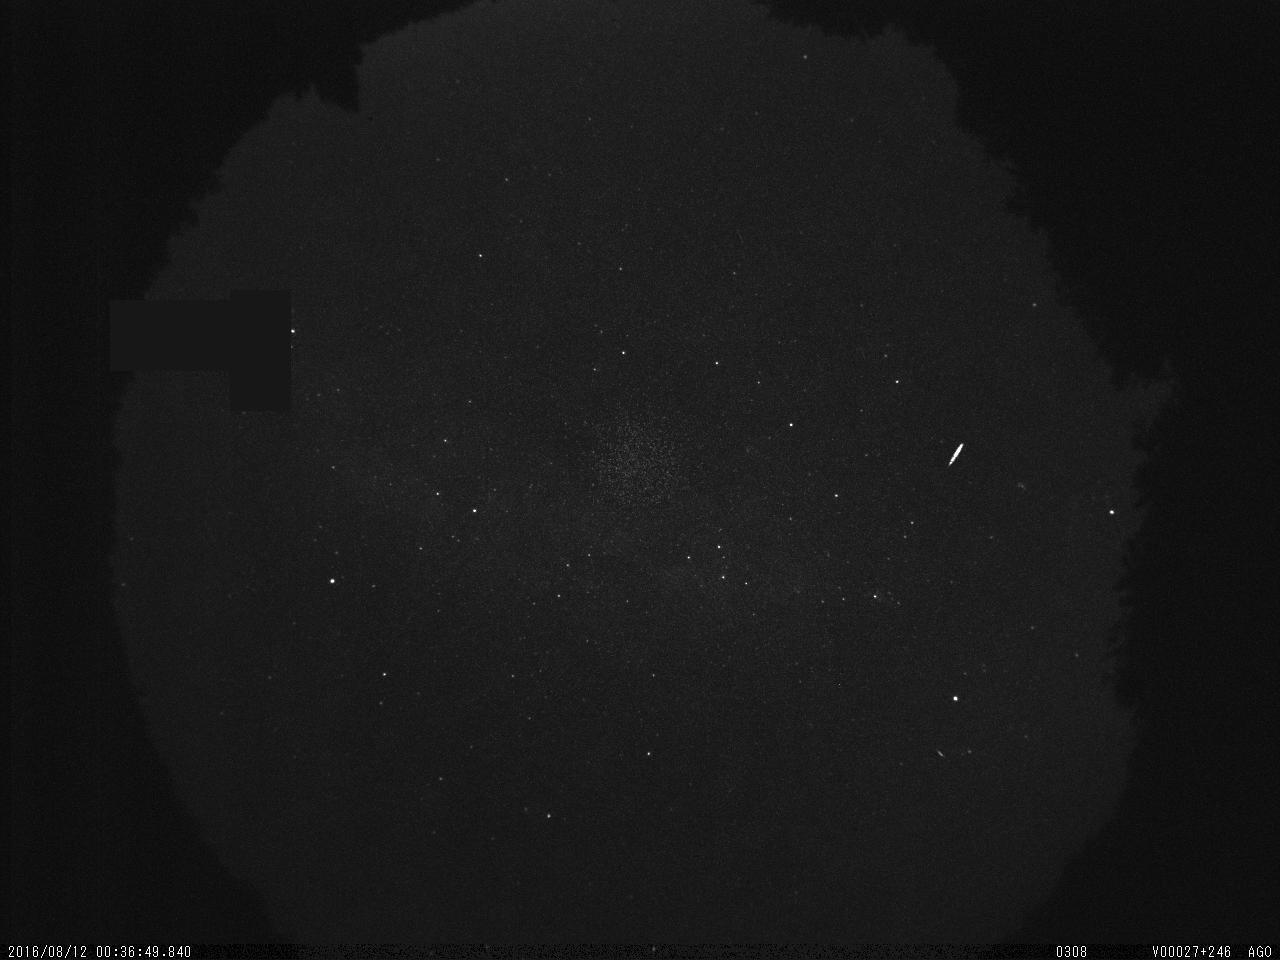meteor: (942, 429, 973, 478)
